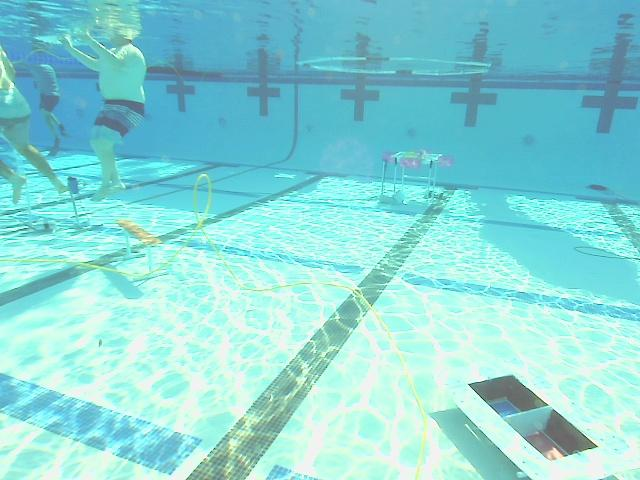dropper: (446, 365, 621, 478)
table: (379, 146, 454, 208)
